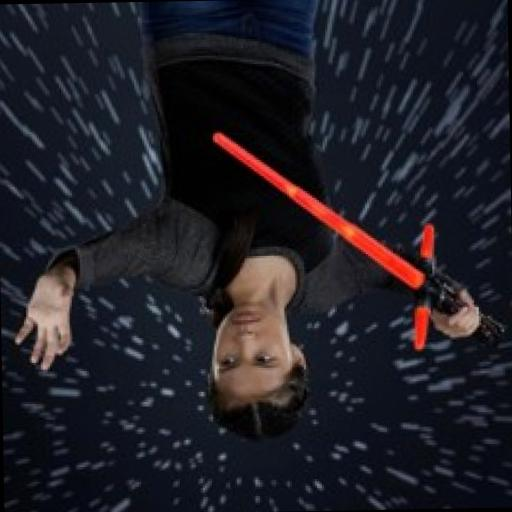human: (8, 0, 485, 442)
objects: (208, 122, 504, 356)
